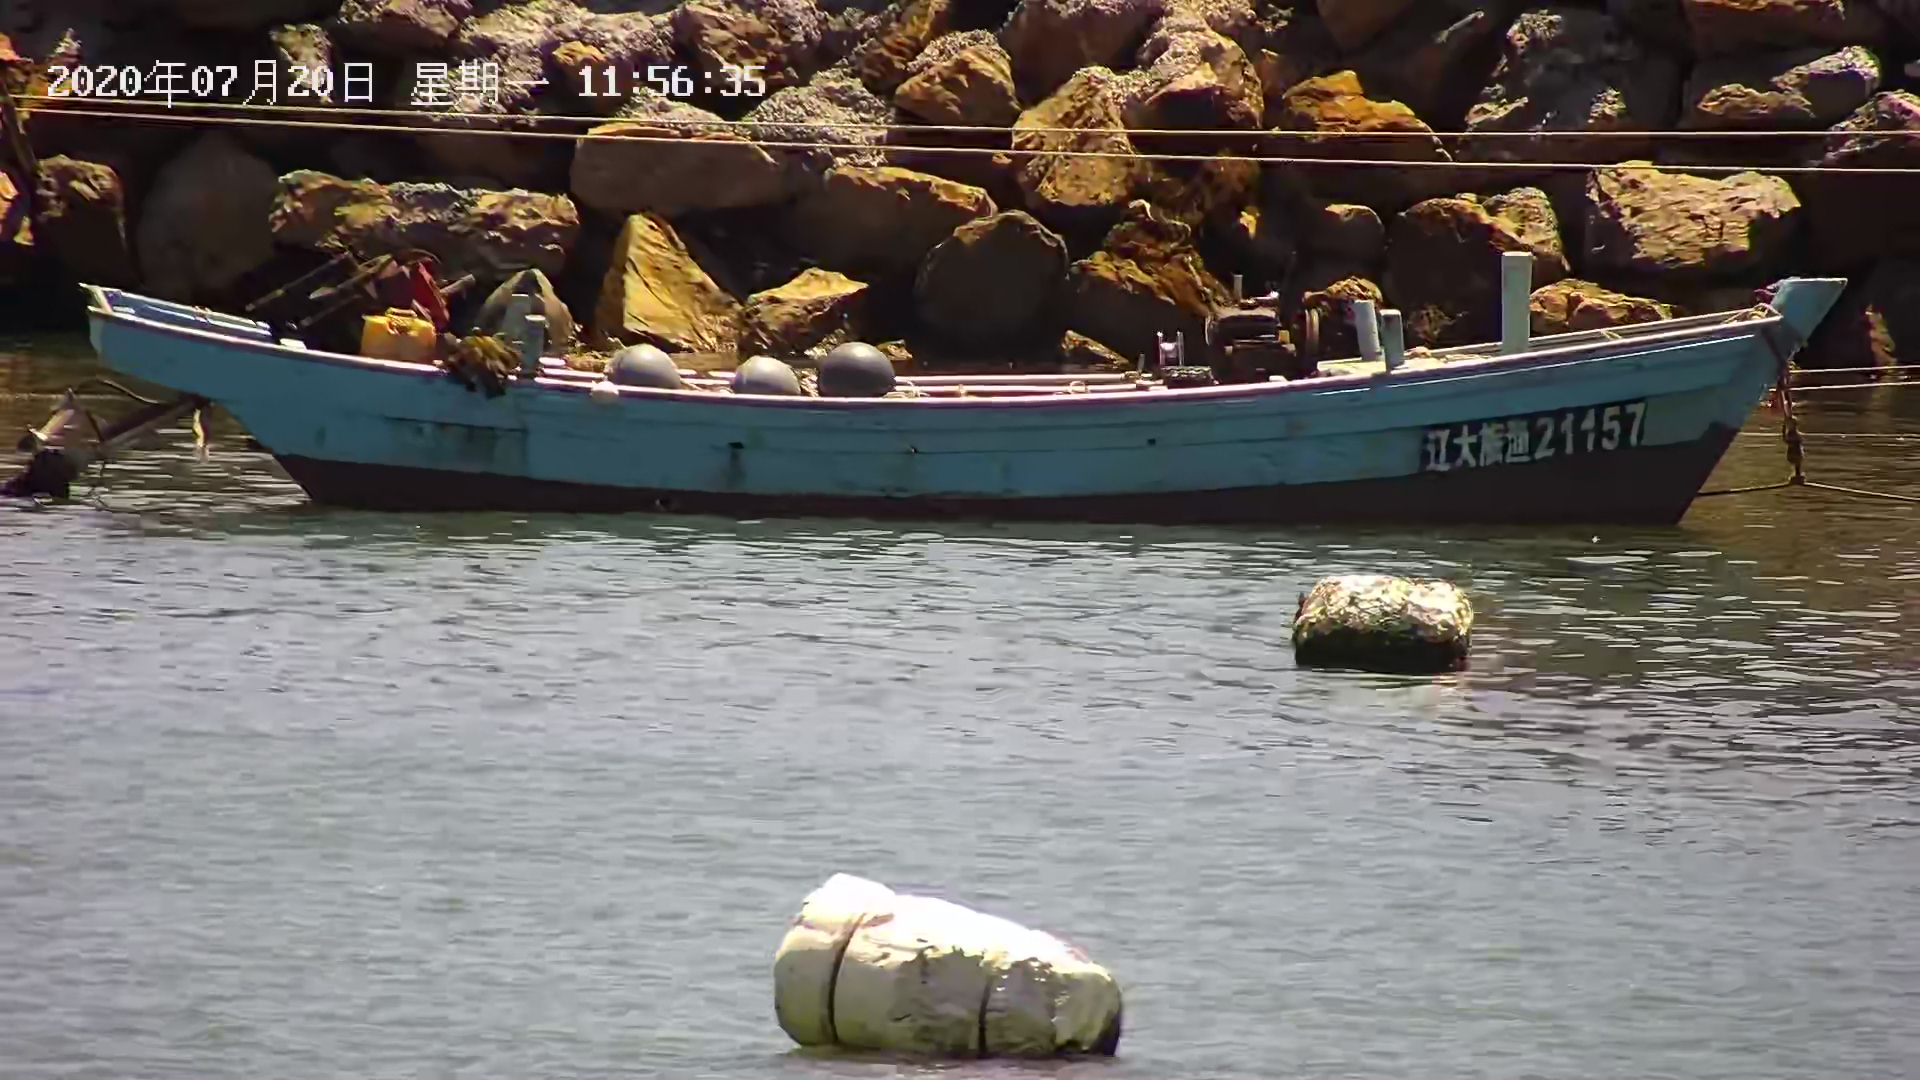boat: (84, 247, 1840, 535)
rubbish: (757, 864, 1141, 1080), (1282, 574, 1484, 674)
